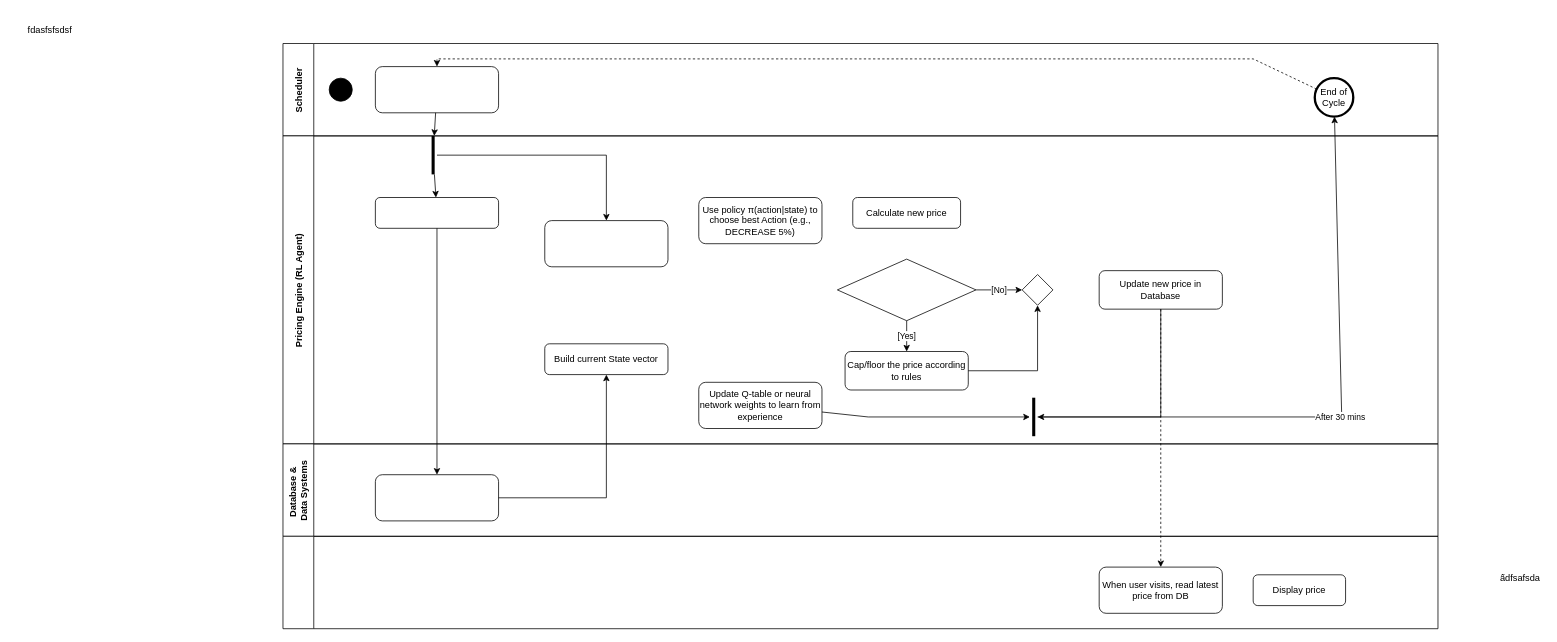
This 1557x642 diagram has some shape labels left out. Here are the shapes that lost their labels. From the top down, the box of each, then its label:
(375, 66, 499, 113): Trigger pricing cycle (e.g., every 30 mins)
(375, 197, 499, 228): Request current state
(544, 220, 668, 267): Observe revenue (Reward) generated by the previous price
(837, 258, 976, 321): Does new price violate business rules?
(375, 474, 499, 521): Collect and return data (remaining slots, competitor prices, etc.)
(282, 536, 1438, 629): User Interface (Website/App)
